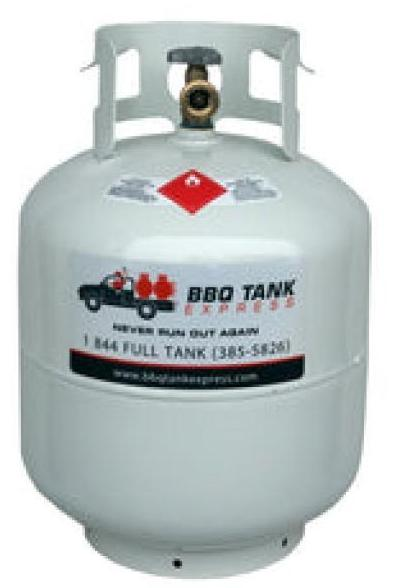cylinder: (1, 0, 393, 588)
